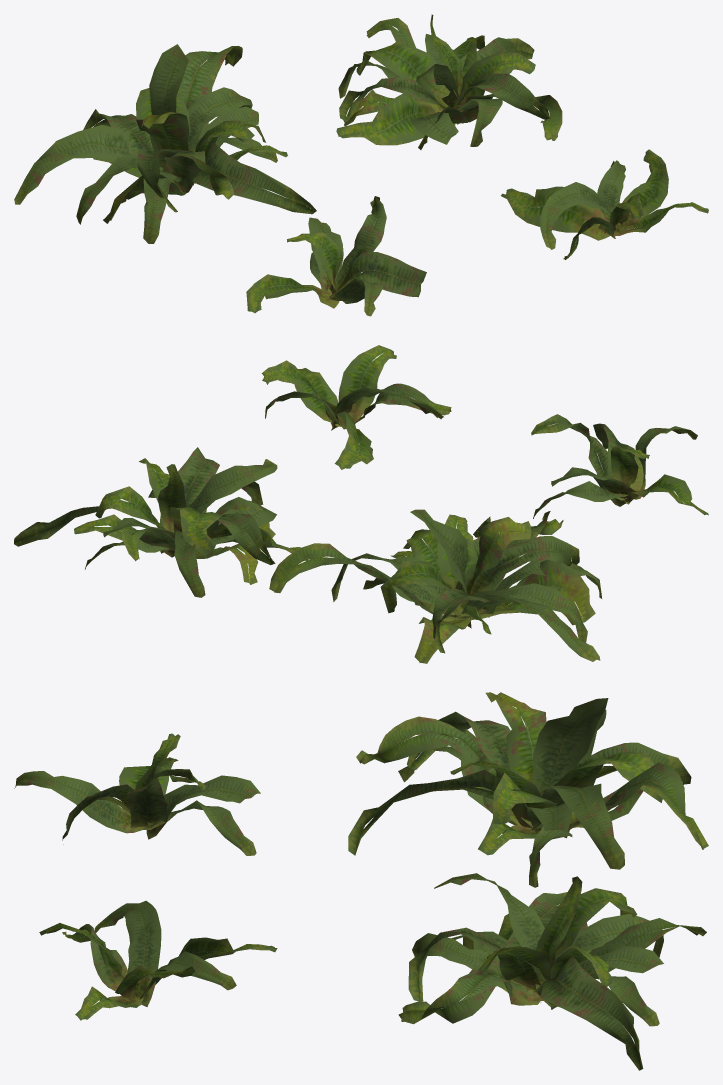
The model's file is fern_02.glb.
3 renders of one model, top to bottom at view 1: azimuth 30°, elevation 25°; view 2: azimuth 150°, elevation 25°; view 3: azimuth 270°, elevation 25°, orthographic. The views are drawn at different scales.
Visible parts, largest first — view 1: fern_02_b, fern_02_c, fern_02_d, fern_02_a; view 2: fern_02_b, fern_02_c, fern_02_d, fern_02_a; view 3: fern_02_b, fern_02_c, fern_02_a, fern_02_d.
Boxes of the visible parts, x1,y1,x2,y2 form: fern_02_b: (14,44,316,243); fern_02_c: (336,14,562,149); fern_02_d: (501,149,708,259); fern_02_a: (246,196,426,316); fern_02_b: (269,509,601,663); fern_02_c: (14,447,307,597); fern_02_d: (261,345,451,469); fern_02_a: (531,414,708,518); fern_02_b: (348,692,708,887); fern_02_c: (398,873,706,1070); fern_02_a: (14,733,260,855); fern_02_d: (39,900,277,1020).
Size of the model in its own units: 1.97 by 0.4246 by 1.72.
Materials: 1 (1 with a texture image).
